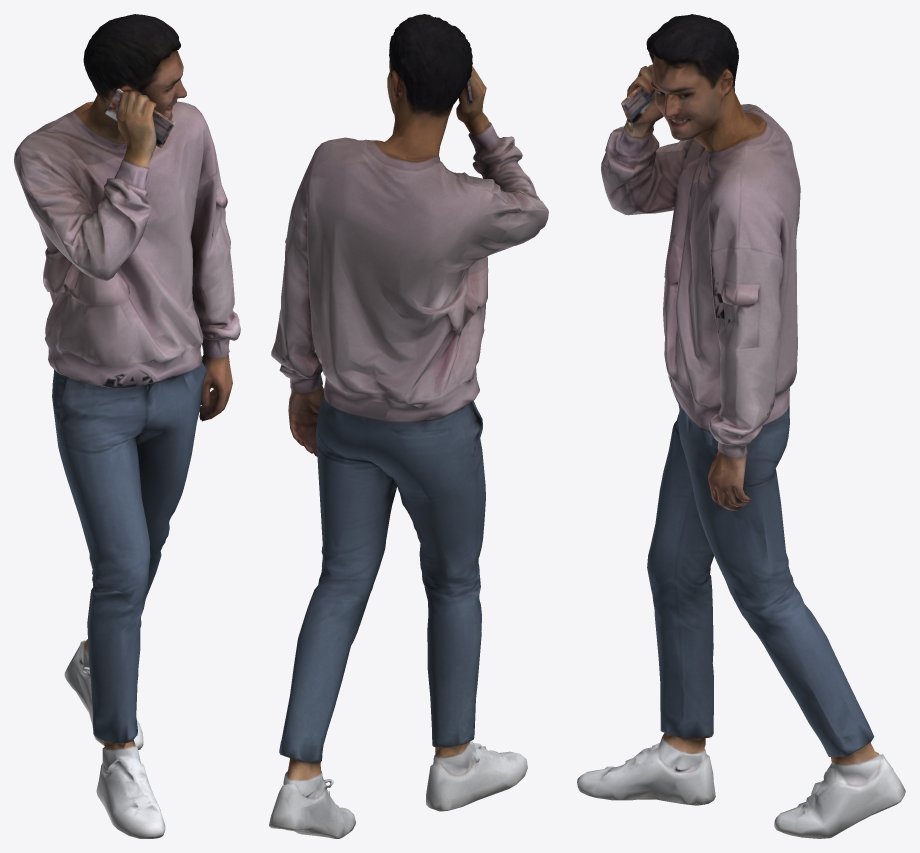
Rendered from bad3.glb.
3 renders of one model, left to right at view 1: azimuth 30°, elevation 25°; view 2: azimuth 150°, elevation 25°; view 3: azimuth 270°, elevation 25°, orthographic. The views are drawn at different scales.
Parts seen in each view (by area): view 1: Object001_Object001_mtl_0; view 2: Object001_Object001_mtl_0; view 3: Object001_Object001_mtl_0.
Boxes of the visible parts, x1,y1,x2,y2 form: Object001_Object001_mtl_0: (14, 14, 240, 838); Object001_Object001_mtl_0: (269, 14, 548, 838); Object001_Object001_mtl_0: (577, 14, 905, 838).
Size of the model in its own units: 0.4768 by 1.58 by 0.5957.
Materials: 1 (1 with a texture image).
